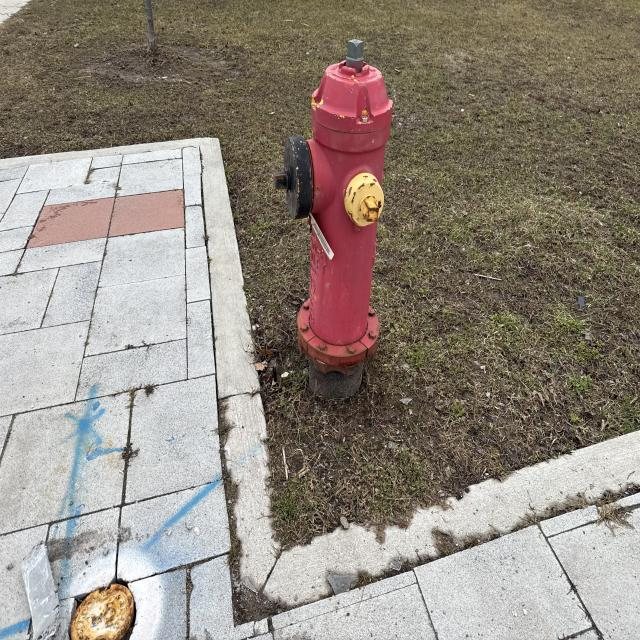Fire hydrant: (273, 39, 394, 378)
